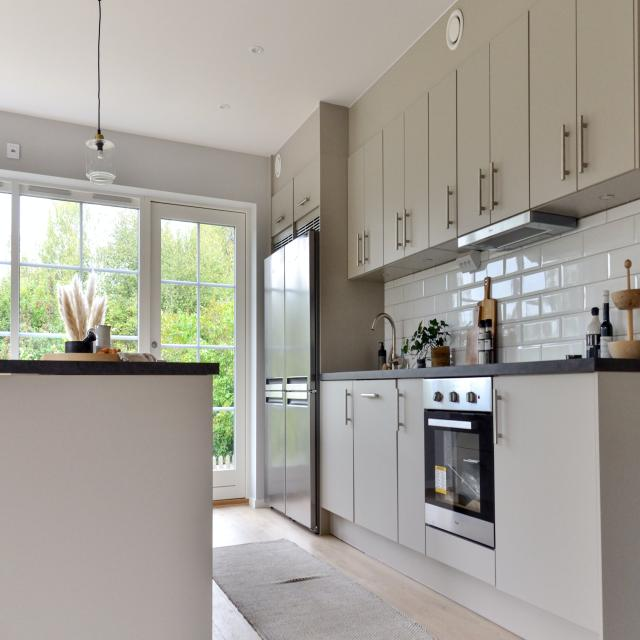Appliance_Fridge: (263, 231, 319, 530)
Appliance_Oven: (423, 377, 494, 549)
Appliance_Sink: (372, 313, 398, 369)
Cabinet_Inset: (321, 373, 640, 640), (348, 0, 640, 279), (273, 160, 320, 236)
Countertop_Solid_Surface: (319, 358, 640, 379), (0, 360, 219, 374)
